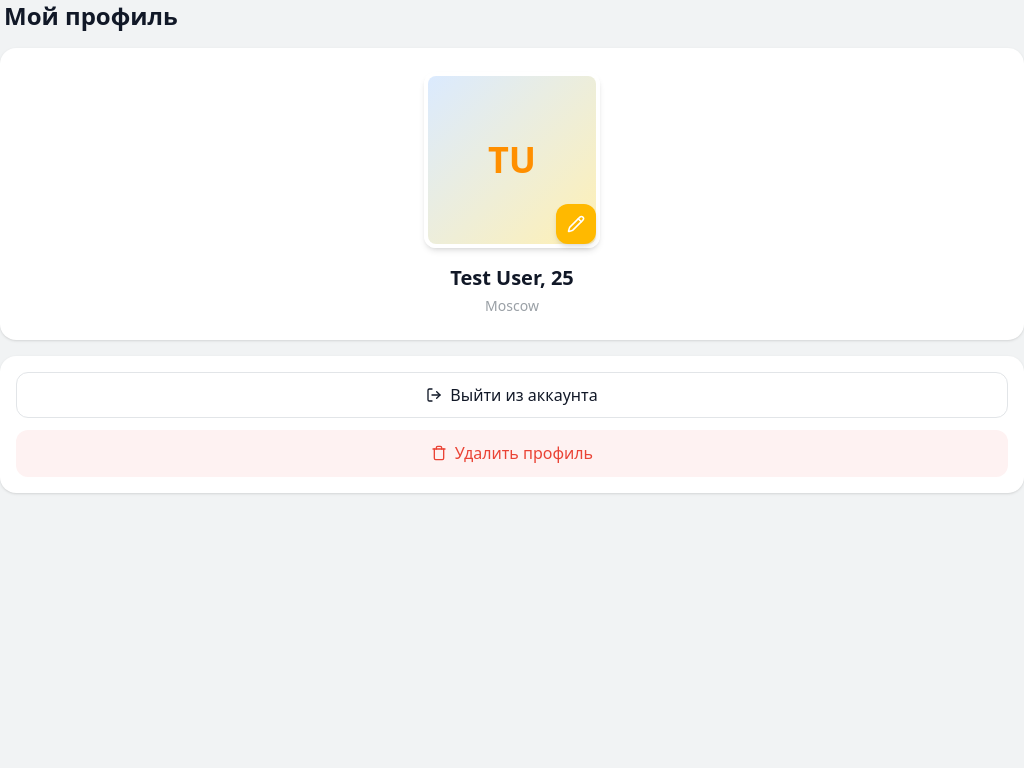
Test: Critical Path Integration › Profile logout opens confirmation modal
Click the button "Выйти из аккаунта" at coordinates (512, 395), box [16,372,1008,418]
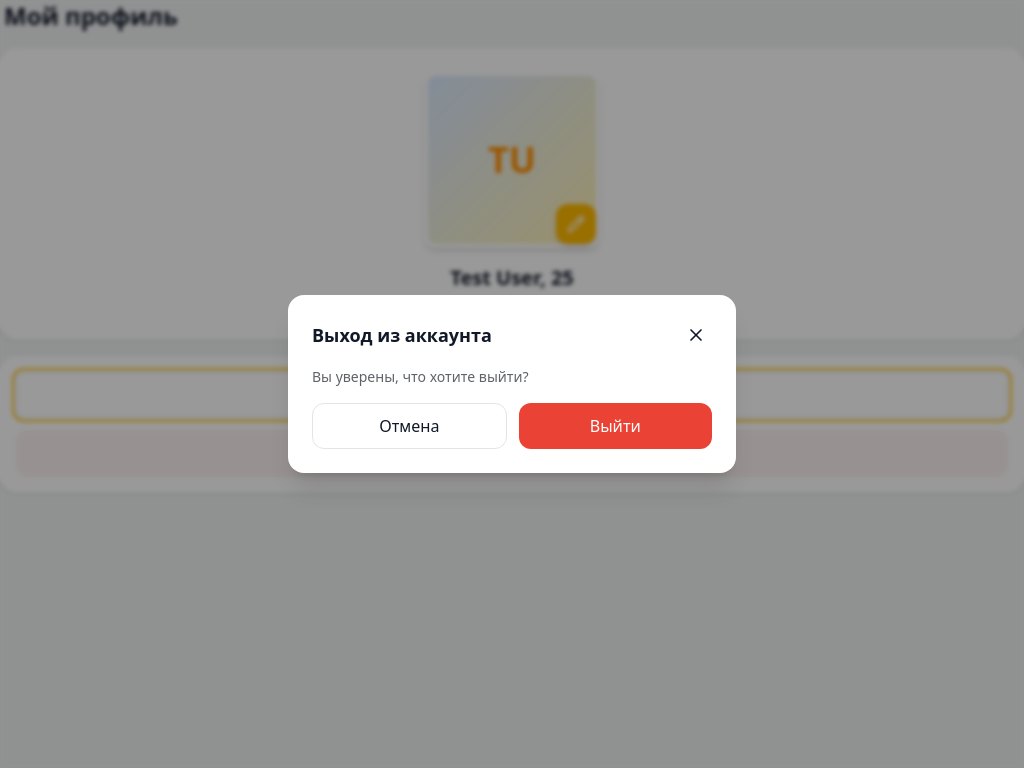
Expected: the heading "Выход из аккаунта" is shown, [312,321,492,349]
Expected: the text "Вы уверены, что хотите выйти?" is shown, [312,367,528,386]
